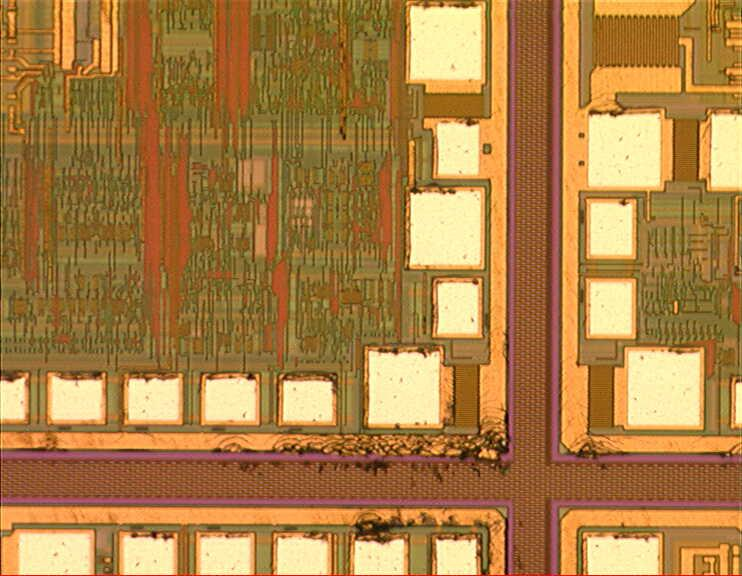SCRATCH: (6, 84, 742, 576)
